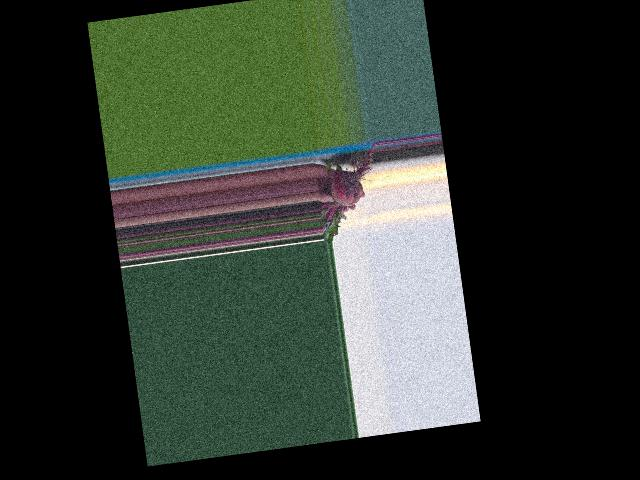beet: (312, 143, 387, 242)
